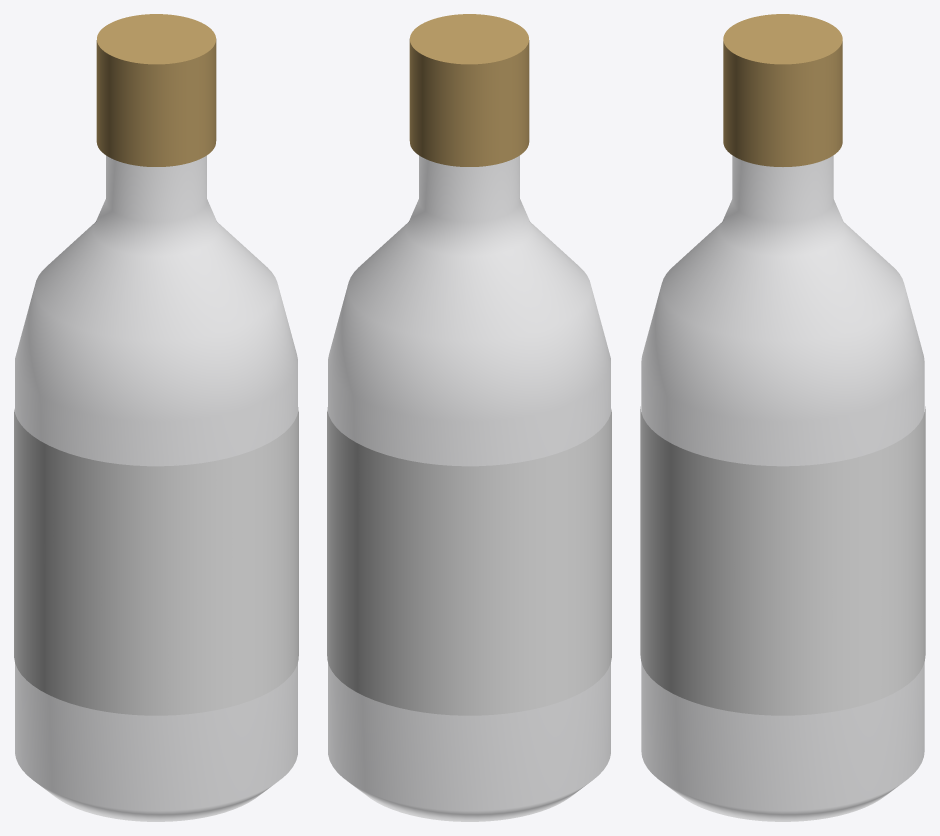
File: frosted-bottle.glb
The picture shows the model from 3 angles, left to right: view 1: azimuth 30°, elevation 25°; view 2: azimuth 150°, elevation 25°; view 3: azimuth 270°, elevation 25°; orthographic projection.
Visible parts, largest first — view 1: body, label, cap; view 2: body, label, cap; view 3: body, label, cap.
Boxes of the visible parts, left/top/right/bottom form: body: left=15, top=155, right=297, bottom=821; label: left=14, top=407, right=298, bottom=715; cap: left=96, top=14, right=216, bottom=166; body: left=328, top=155, right=610, bottom=821; label: left=327, top=407, right=611, bottom=715; cap: left=409, top=14, right=529, bottom=166; body: left=641, top=155, right=924, bottom=821; label: left=640, top=406, right=925, bottom=715; cap: left=723, top=14, right=842, bottom=166.
Size of the model in its own units: 0.5634 by 1.6 by 0.5634.
